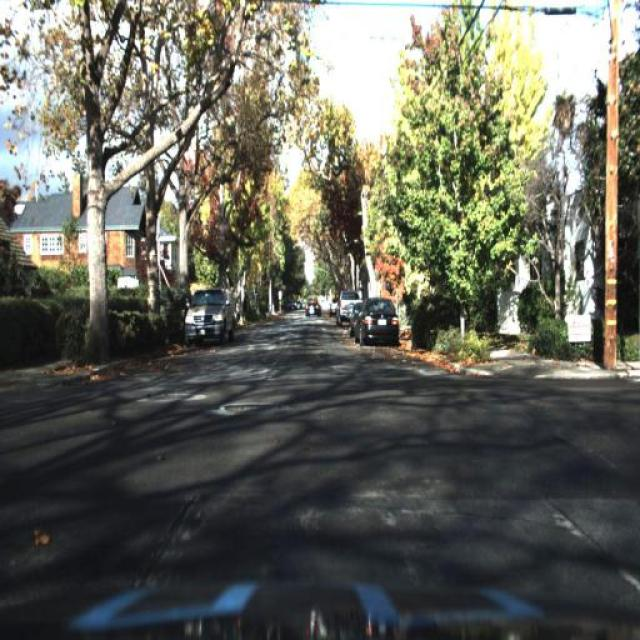car: (180, 287, 232, 339), (353, 293, 401, 343), (336, 292, 355, 326), (305, 293, 324, 317)
